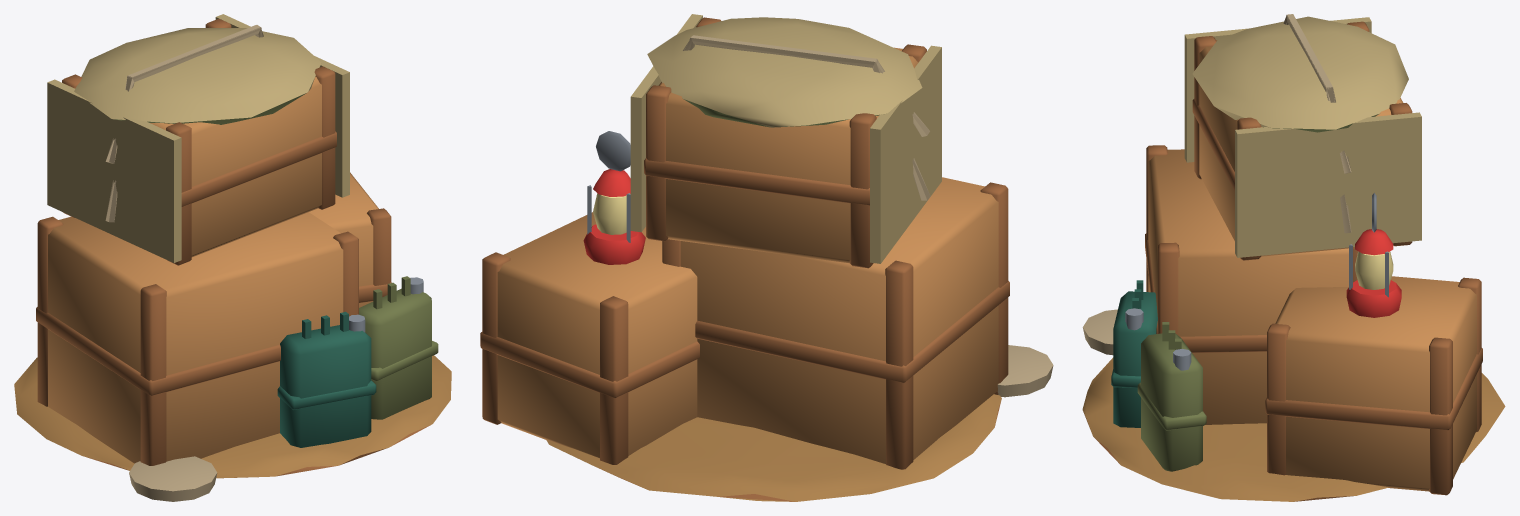
The model's file is SafariStack.fbx.
3 views of the same model, side by side, from view 1: azimuth 30°, elevation 25°; view 2: azimuth 150°, elevation 25°; view 3: azimuth 270°, elevation 25° (orthographic). The views are drawn at different scales.
Visible parts, largest first — view 1: SafariStack; view 2: SafariStack; view 3: SafariStack.
Part boxes in pixels (x1=…): SafariStack: x1=14, y1=14, x2=451, y2=501; SafariStack: x1=480, y1=14, x2=1053, y2=501; SafariStack: x1=1082, y1=14, x2=1505, y2=501.
Bounding box in the file's own units: 1.68 × 1.44 × 1.61.
Materials: 2 (2 with a texture image).
